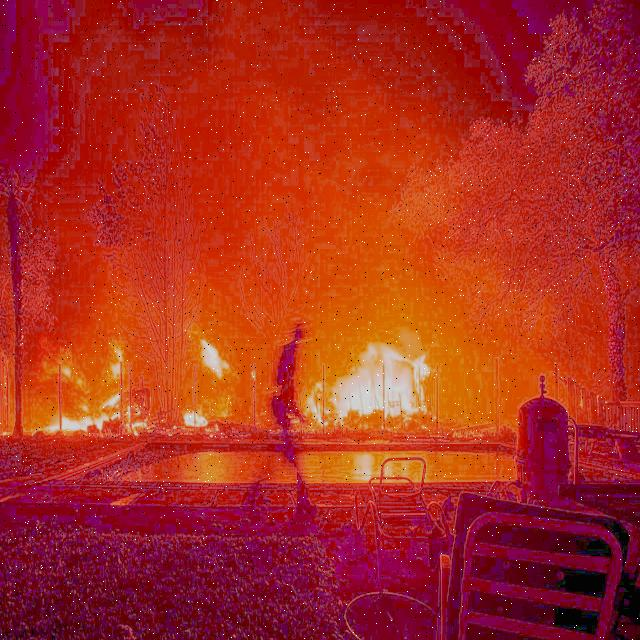api: (312, 340, 440, 432), (30, 334, 136, 437), (171, 312, 241, 436)
